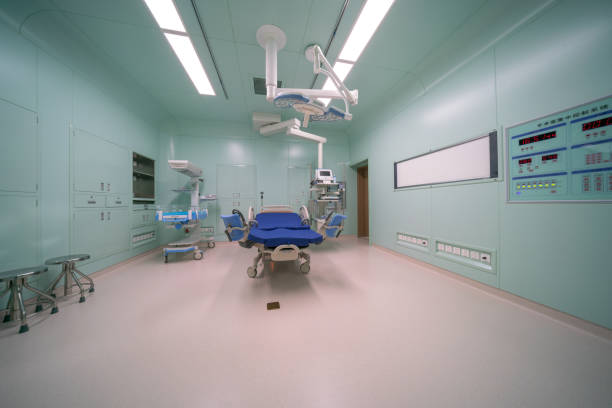bedrail: (245, 206, 256, 228), (298, 204, 309, 222)
bedside_monitor: (316, 167, 333, 180)
chair: (1, 266, 58, 334), (46, 254, 95, 303)
handle: (106, 211, 113, 221), (100, 183, 105, 194), (107, 183, 112, 194), (100, 210, 105, 221)
operating_bed: (221, 204, 346, 280)
panda_baby_warmer: (152, 157, 215, 262)
surgical_light: (312, 104, 346, 124), (273, 91, 309, 109)
